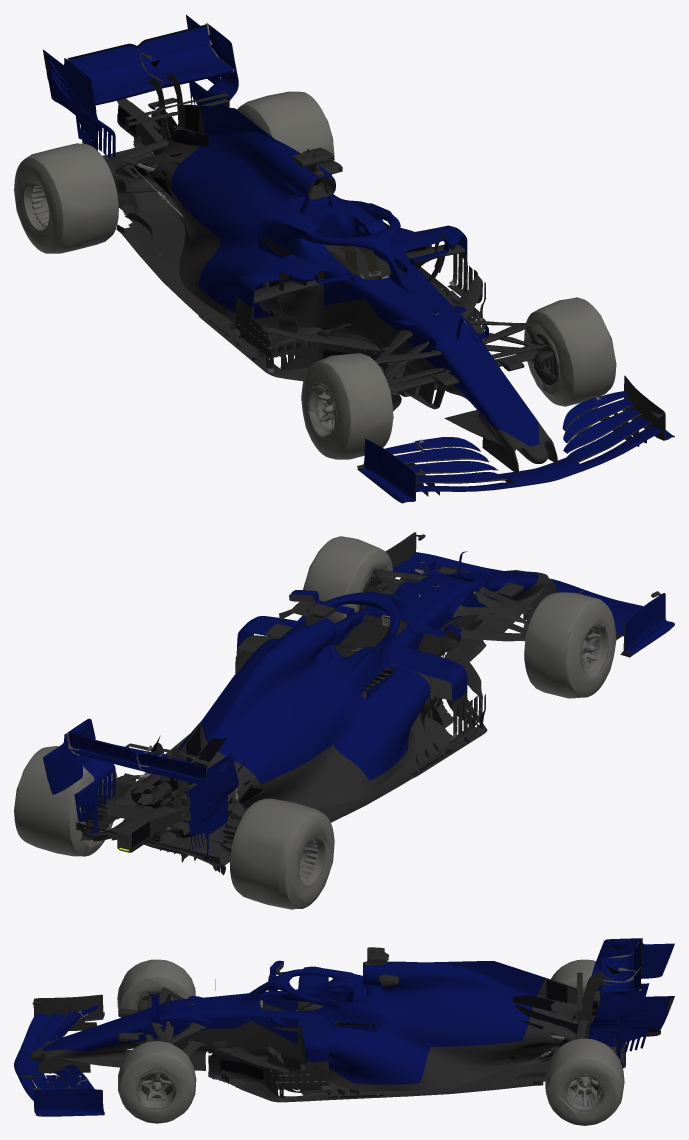
The model's file is f1-21-mercedes.obj.
3 renders of one model, top to bottom at view 1: azimuth 30°, elevation 25°; view 2: azimuth 150°, elevation 25°; view 3: azimuth 270°, elevation 25°, orthographic. The views are drawn at different scales.
Parts seen in each view (by area): view 1: BODY, WHEEL_RR, WHEEL_RF, WHEEL_LF, WHEEL_LR; view 2: BODY, WHEEL_RR, WHEEL_RF, WHEEL_LR, WHEEL_LF; view 3: BODY, WHEEL_LR, WHEEL_LF, WHEEL_RF, WHEEL_RR.
Part boxes in pixels (x1=…): BODY: x1=42, y1=14, x2=674, y2=503; WHEEL_RR: x1=14, y1=143, x2=118, y2=253; WHEEL_RF: x1=301, y1=353, x2=393, y2=459; WHEEL_LF: x1=524, y1=297, x2=616, y2=406; WHEEL_LR: x1=237, y1=91, x2=334, y2=175; BODY: x1=42, y1=532, x2=674, y2=875; WHEEL_RR: x1=230, y1=798, x2=334, y2=909; WHEEL_RF: x1=524, y1=592, x2=616, y2=698; WHEEL_LR: x1=14, y1=746, x2=117, y2=856; WHEEL_LF: x1=303, y1=536, x2=392, y2=623; BODY: x1=14, y1=938, x2=674, y2=1116; WHEEL_LR: x1=545, y1=1038, x2=624, y2=1125; WHEEL_LF: x1=118, y1=1041, x2=196, y2=1123; WHEEL_RF: x1=117, y1=959, x2=195, y2=1009; WHEEL_RR: x1=551, y1=959, x2=595, y2=995.
Size of the model in its own units: 2.07 by 1.21 by 5.63.
